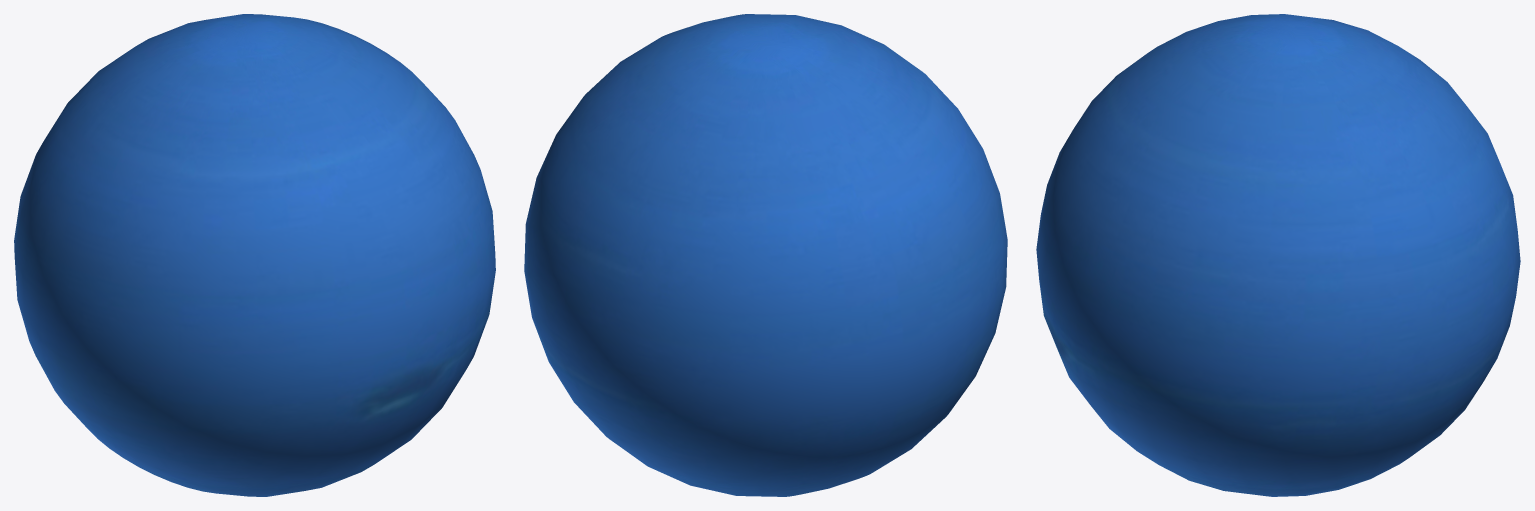
The model's file is neptune.glb.
3 views of the same model, side by side, from view 1: azimuth 30°, elevation 25°; view 2: azimuth 150°, elevation 25°; view 3: azimuth 270°, elevation 25° (orthographic).
Parts seen in each view (by area): view 1: 球; view 2: 球; view 3: 球.
Boxes of the visible parts, x1,y1,x2,y2 form: 球: (14, 14, 495, 496); 球: (524, 14, 1007, 496); 球: (1036, 14, 1520, 496).
Bounding box in the file's own units: 2 × 2 × 2.
Materials: 1 (1 with a texture image).
